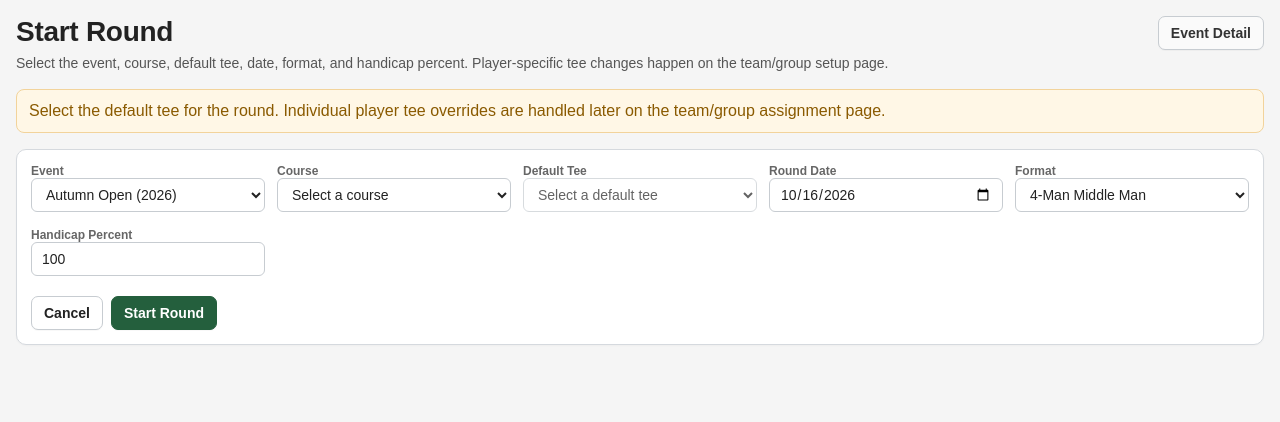
Round setup page characterization (before extraction) › requires a course before starting a round
Expected: the dropdown labelled "Event" is shown, [31,178,265,212]
Step 1. Click the button "Start Round" → click(164, 313), box [111,296,217,330]
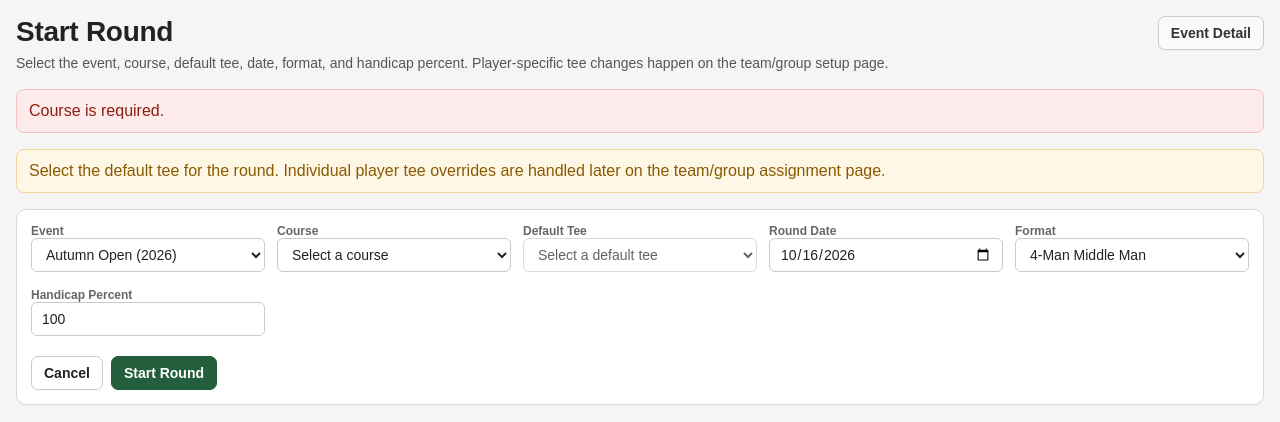
Result: the text "Course is required." is shown at [16,89,1264,133]
